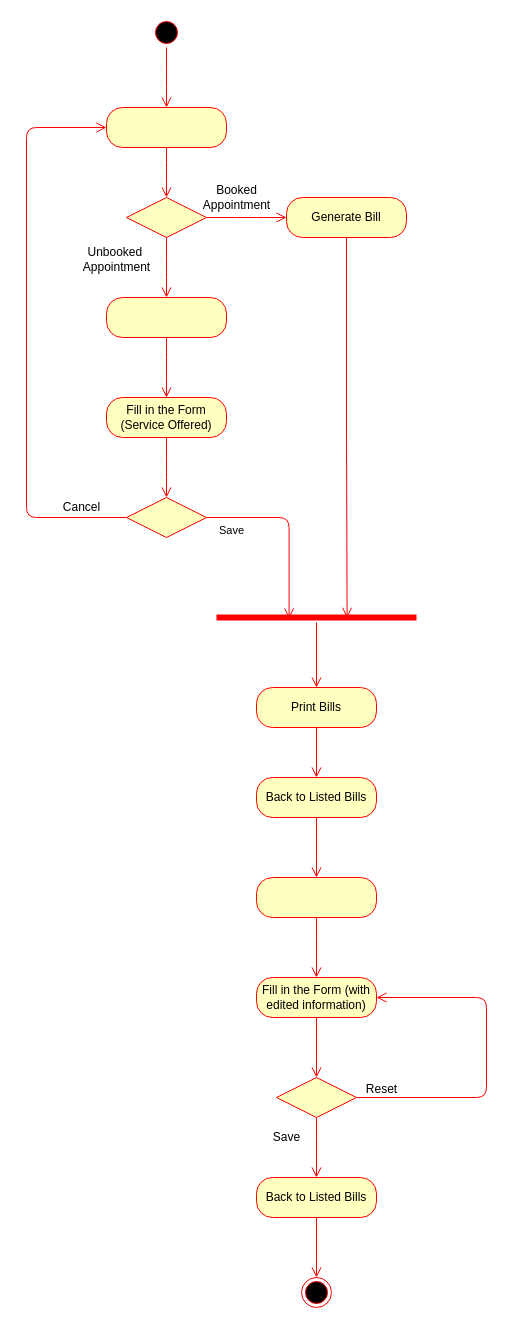
The diagram is 514 pixels wide and 1325 high, and some of its shapes have lost their labels. Each missing label, with the centre of its shape:
Create Bill: (166,317)
Go to Dashboard/ Bills: (166,127)
Select a Bill to Edit: (316,897)
